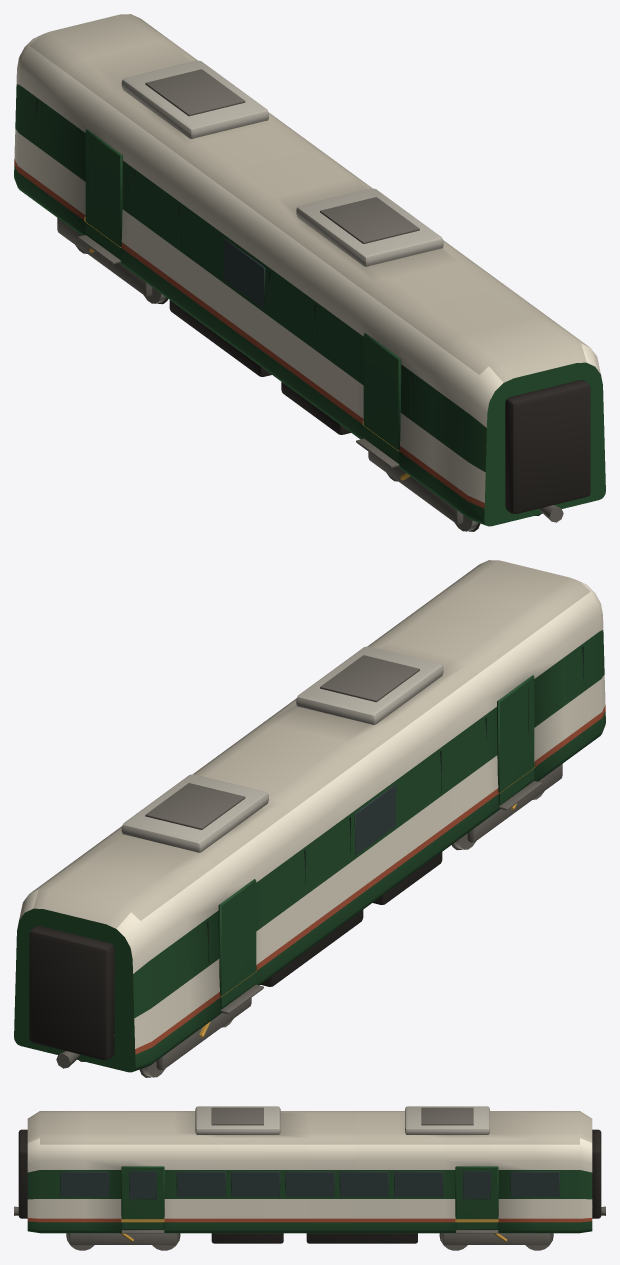
Rendered from train_coach.glb.
The picture shows the model from 3 angles, top to bottom: view 1: azimuth 30°, elevation 25°; view 2: azimuth 150°, elevation 25°; view 3: azimuth 270°, elevation 25°; orthographic projection. The views are drawn at different scales.
Parts seen in each view (by area): view 1: train_coach_mesh, PART_door_r2_mesh, PART_door_r1_mesh, PART_bogie_front_mesh, PART_bogie_rear_mesh; view 2: train_coach_mesh, PART_door_r1_mesh, PART_door_r2_mesh, PART_bogie_rear_mesh, PART_bogie_front_mesh; view 3: train_coach_mesh, PART_door_l1_mesh, PART_door_l2_mesh, PART_bogie_front_mesh, PART_bogie_rear_mesh.
Part boxes in pixels (x1,y1,x2,y2): train_coach_mesh: (14, 14, 605, 526); PART_door_r2_mesh: (362, 333, 401, 461); PART_door_r1_mesh: (84, 129, 122, 258); PART_bogie_front_mesh: (368, 452, 463, 524); PART_bogie_rear_mesh: (57, 218, 152, 296); train_coach_mesh: (14, 560, 605, 1072); PART_door_r1_mesh: (218, 879, 257, 1007); PART_door_r2_mesh: (497, 675, 535, 804); PART_bogie_rear_mesh: (156, 998, 251, 1070); PART_bogie_front_mesh: (467, 764, 562, 842); train_coach_mesh: (14, 1106, 605, 1243); PART_door_l1_mesh: (455, 1166, 498, 1228); PART_door_l2_mesh: (121, 1166, 164, 1228); PART_bogie_front_mesh: (69, 1233, 177, 1244); PART_bogie_rear_mesh: (442, 1233, 550, 1244).
Size of the model in its own units: 3.2 by 4.19 by 18.08.
